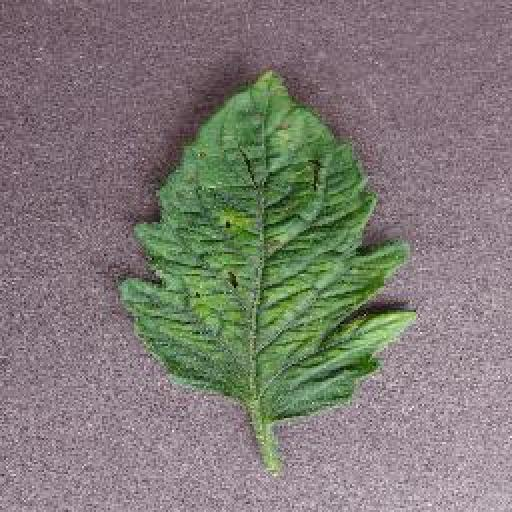Mosaic Virus: (117, 66, 419, 422)
